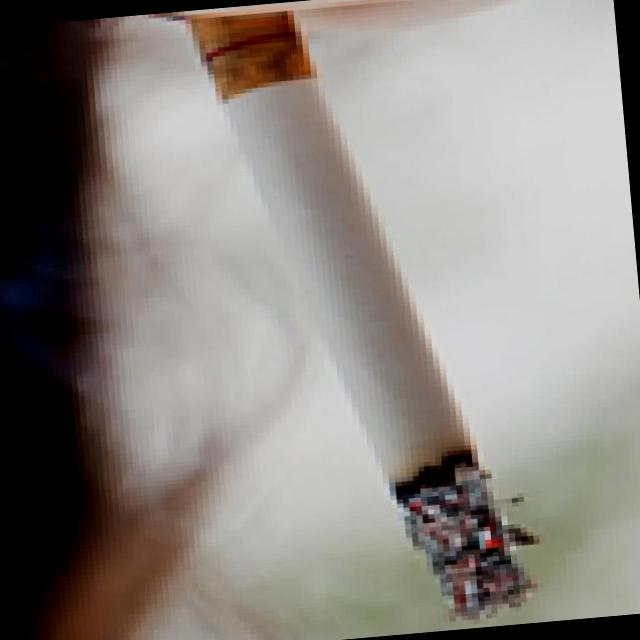smoke: (197, 1, 546, 640)
